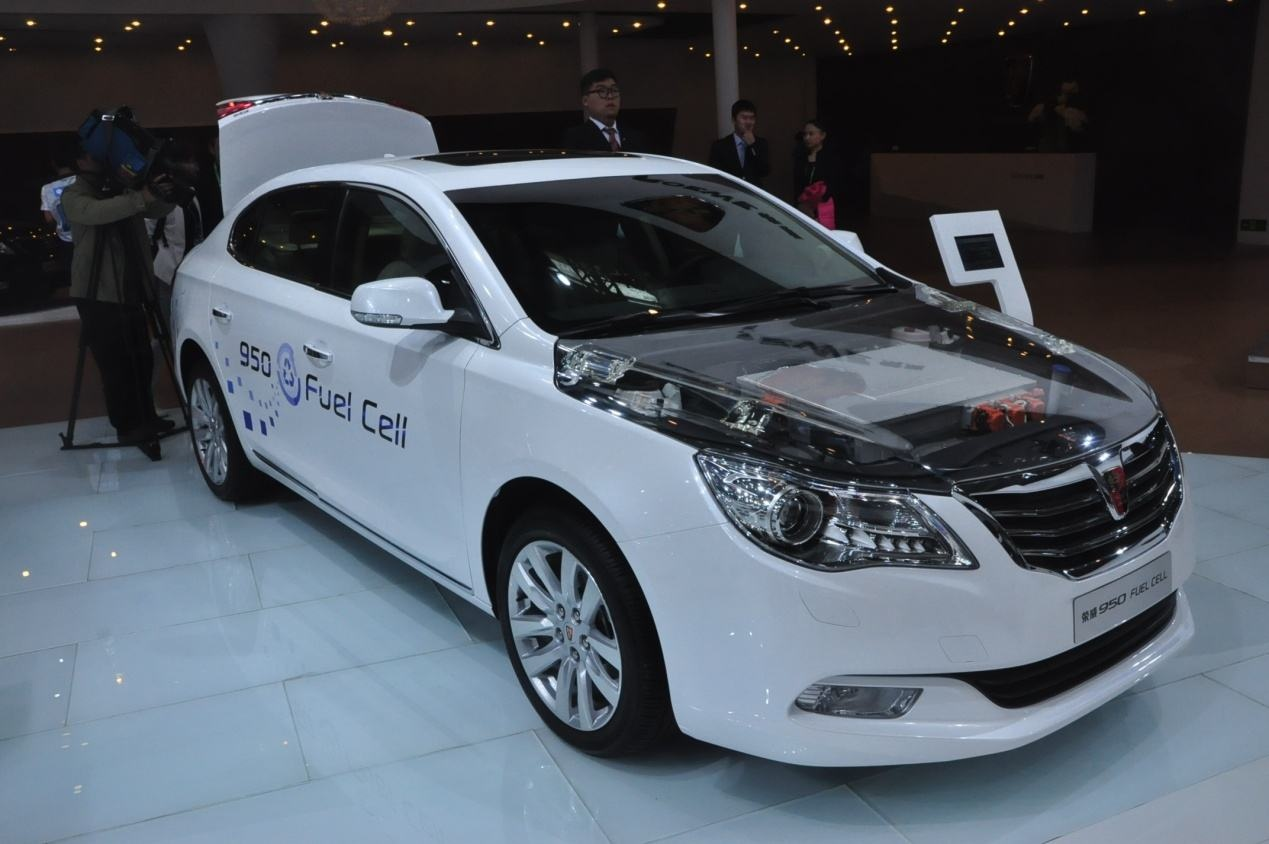family sedan: (146, 165, 1196, 785)
